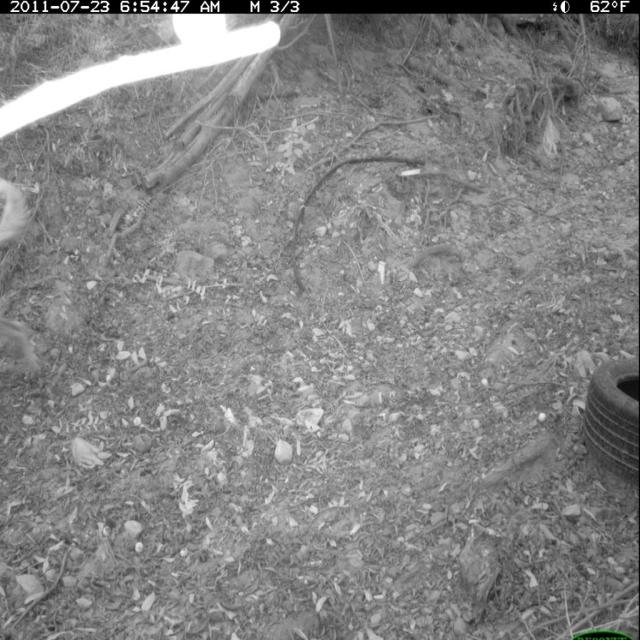dog: (2, 164, 40, 268)
